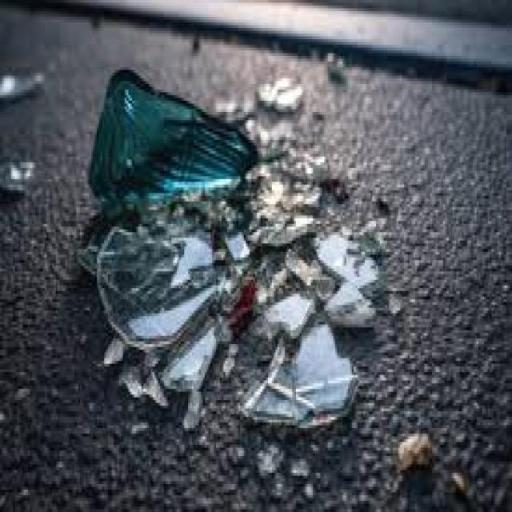glass: (82, 58, 246, 254), (87, 198, 255, 368), (242, 318, 360, 430), (314, 231, 390, 327), (162, 324, 222, 390), (74, 212, 134, 276), (210, 100, 286, 140), (257, 74, 304, 113), (2, 67, 44, 106), (0, 157, 35, 193)
